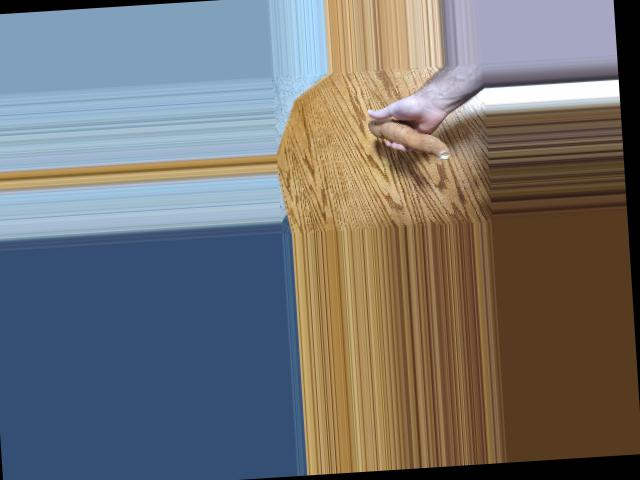sweet_potato: (364, 116, 451, 163)
